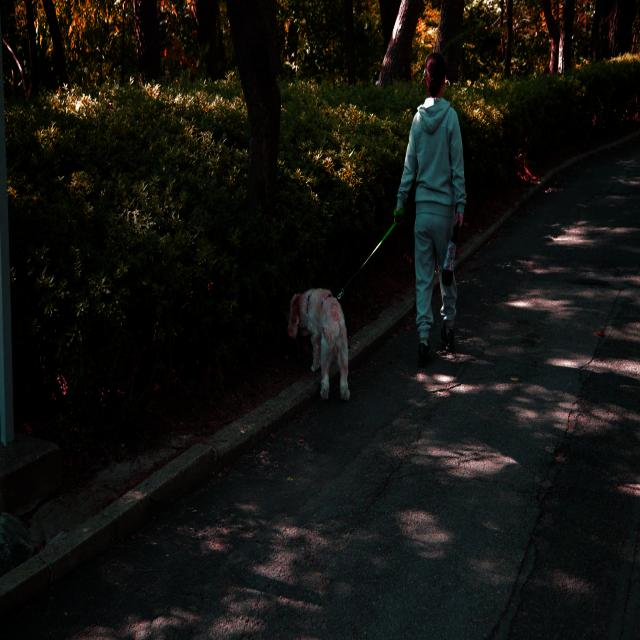Leashed_Dog: (286, 207, 435, 402)
